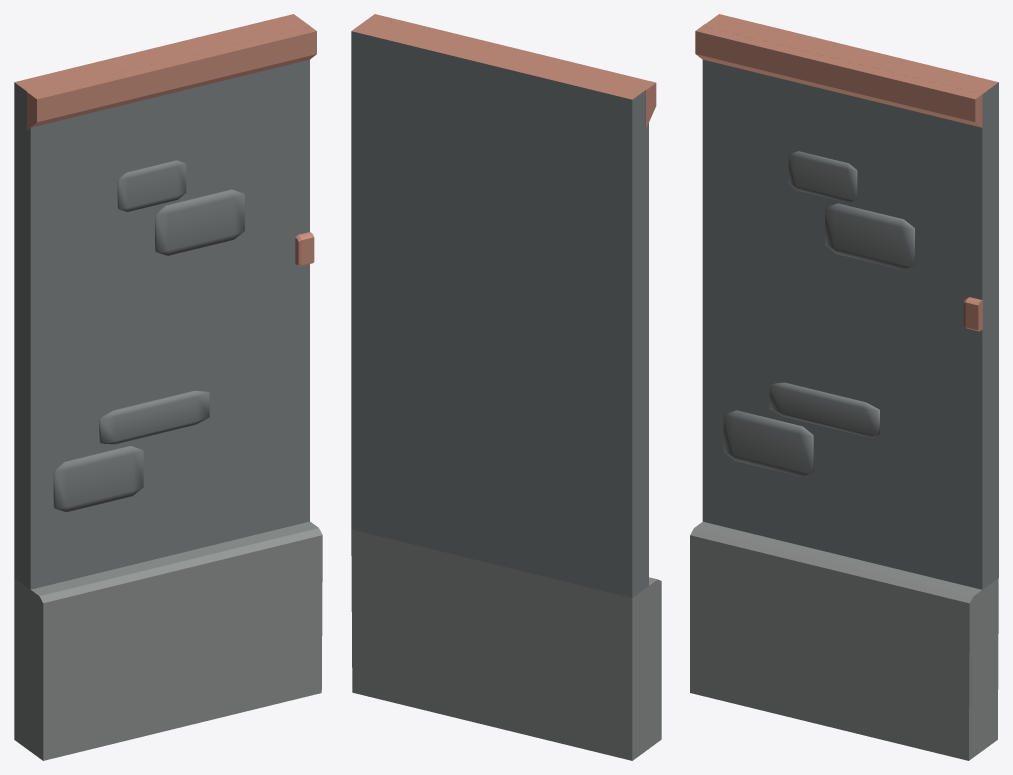
Rendered from Wall_02 1.fbx.
3 views of the same model, side by side, from view 1: azimuth 30°, elevation 25°; view 2: azimuth 150°, elevation 25°; view 3: azimuth 330°, elevation 25° (orthographic).
Visible parts, largest first — view 1: Cube.001; view 2: Cube.001; view 3: Cube.001.
Boxes of the visible parts, x1=… form: Cube.001: x1=14, y1=14, x2=322, y2=760; Cube.001: x1=351, y1=14, x2=661, y2=760; Cube.001: x1=690, y1=14, x2=998, y2=760.
Size of the model in its own units: 201 by 451 by 36.09.
